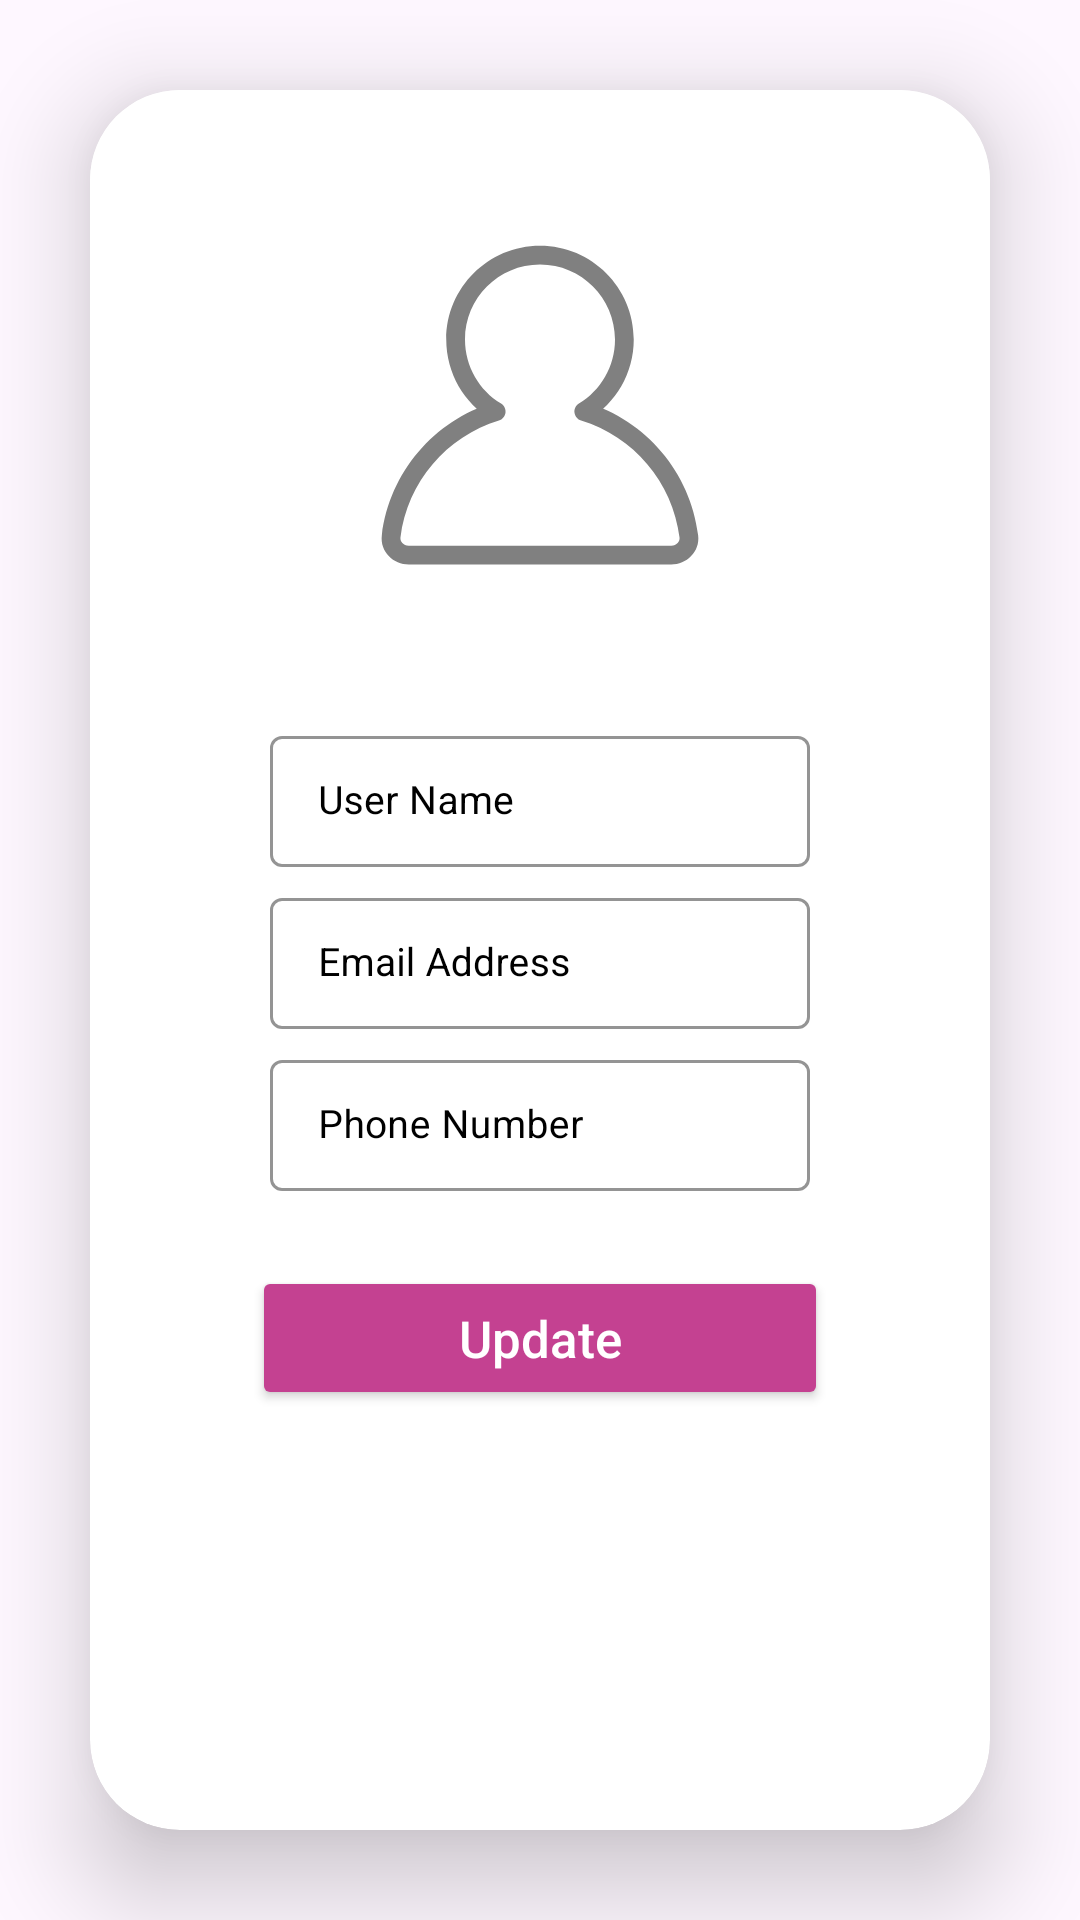

Icon bounding boxes for this 1080×1920 phone screenshot, format (x1, y1, x2, y2):
profile: (381, 245, 699, 565)
